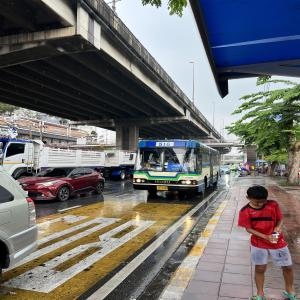BMTA-bus: (132, 139, 222, 198)
Bus Line Number: (156, 142, 173, 146)
Bus Side Number: (180, 176, 194, 180)
Destination Sign: (167, 164, 188, 171)
